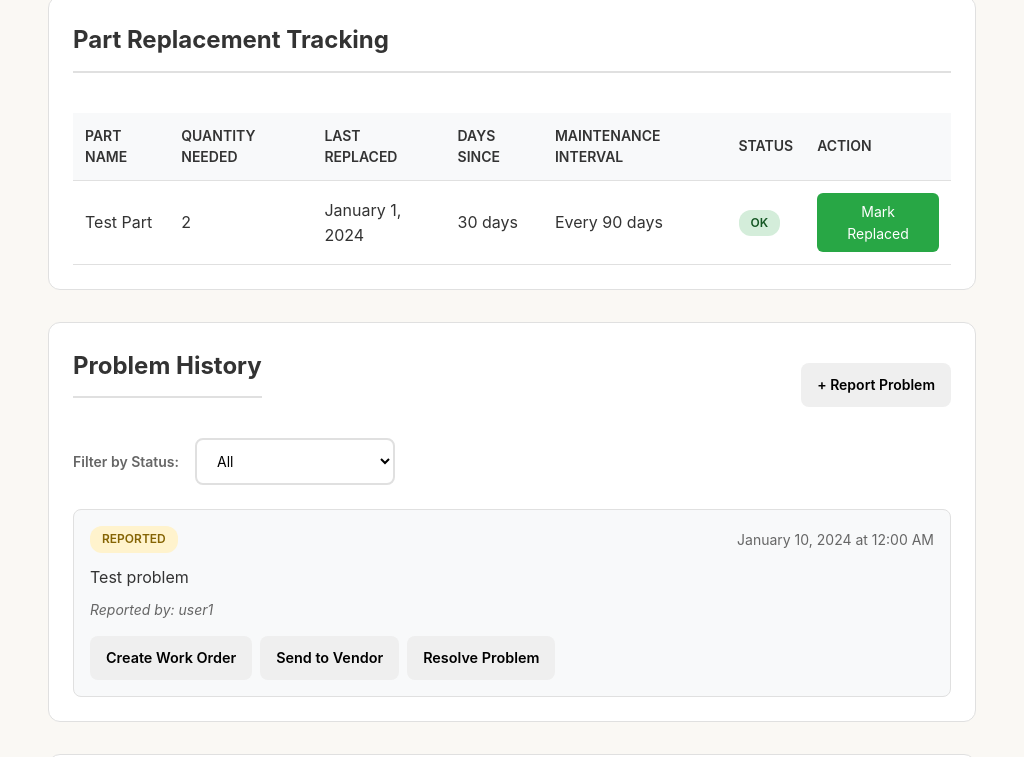
Scenario: AssetDetailPage › resilience (#457 R4) › renders a component multi-select in the report form (op-3ak)
This screenshot has width=1024, height=757.
(page scrolled)
Click the button "+ Report Problem": (876, 385) [801,363,951,407]
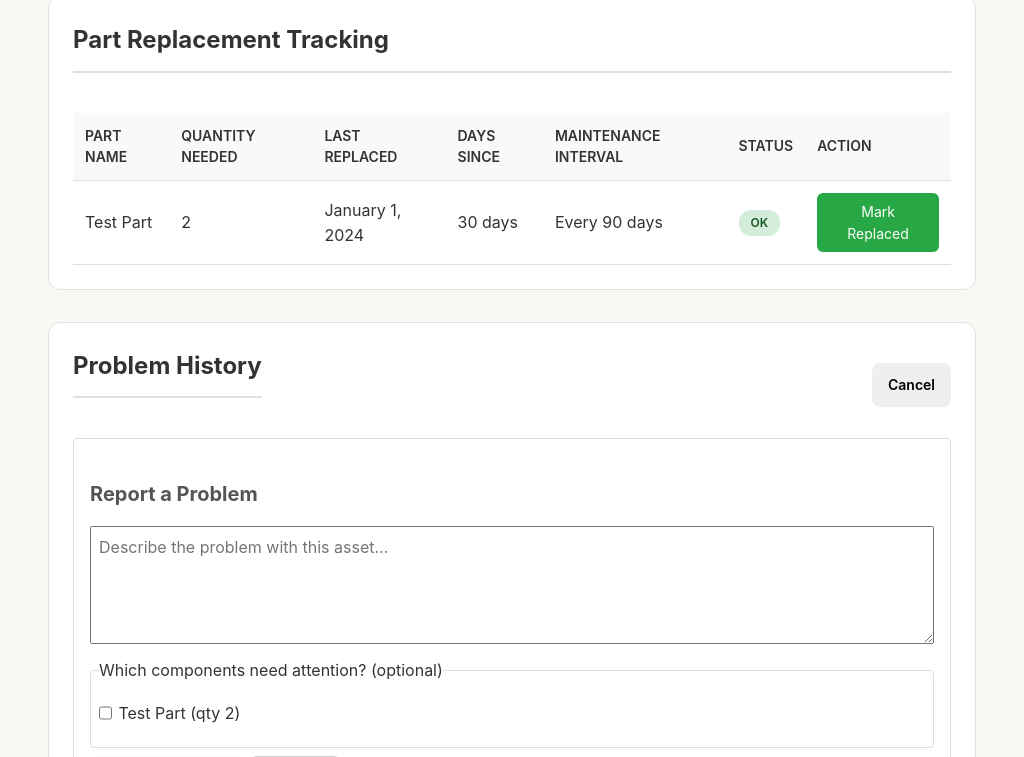
Expected: the text "Which components need attention? (optional)" is shown, [99,658,443,683]
Expected: the checkbox labelled "Test Part (qty 2)" is shown, [99,691,112,735]
